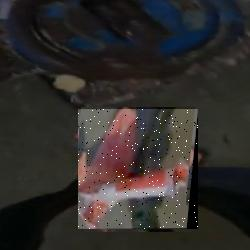restaffald: (78, 109, 198, 229)
